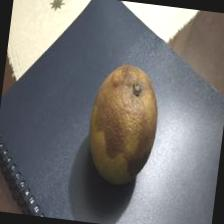Orange Rotten: (77, 50, 179, 196)
